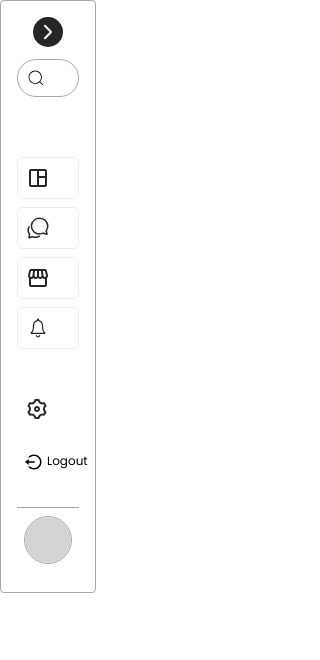
Test: DashBoardSideBar › menu visibility
The width and height of the screenshot is (320, 660).
Click the icon with test id "menu-toggle-button2". click: point(48, 32)
box: x1=33 y1=17 x2=63 y2=47
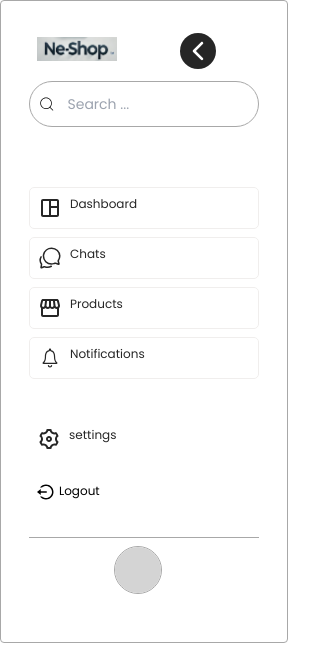
Now the icon with test id "menu-toggle-button" is shown, box x1=180 y1=33 x2=216 y2=69
